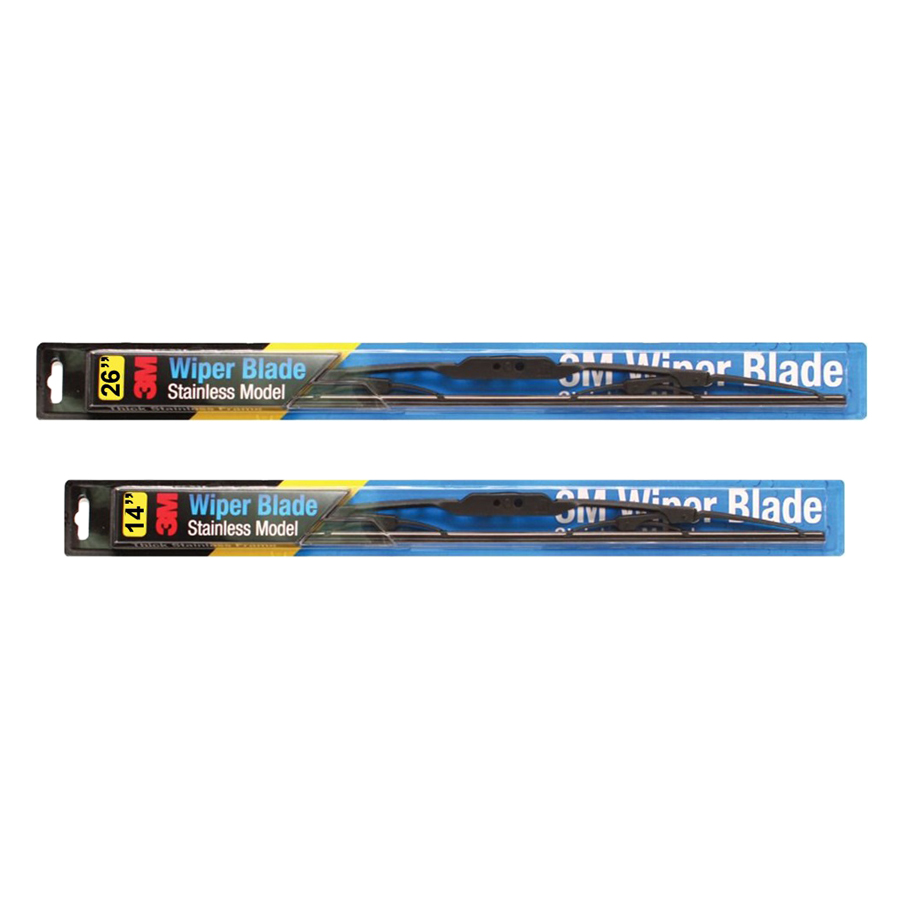3M: (132, 351, 159, 405), (152, 489, 181, 538)
